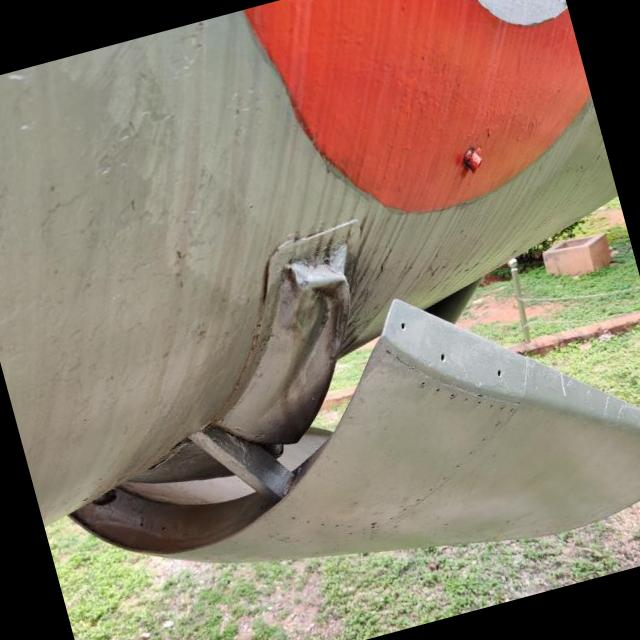Dent: (257, 243, 351, 432)
